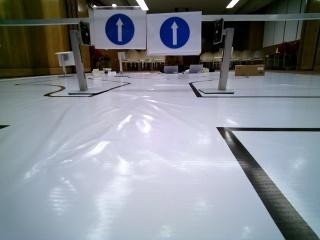straight: (146, 12, 203, 56), (89, 6, 145, 50)
